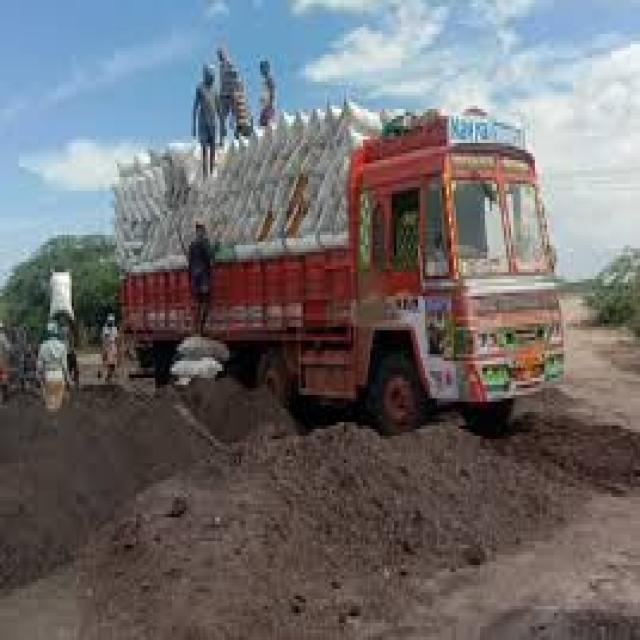uncovered: (116, 114, 558, 437)
